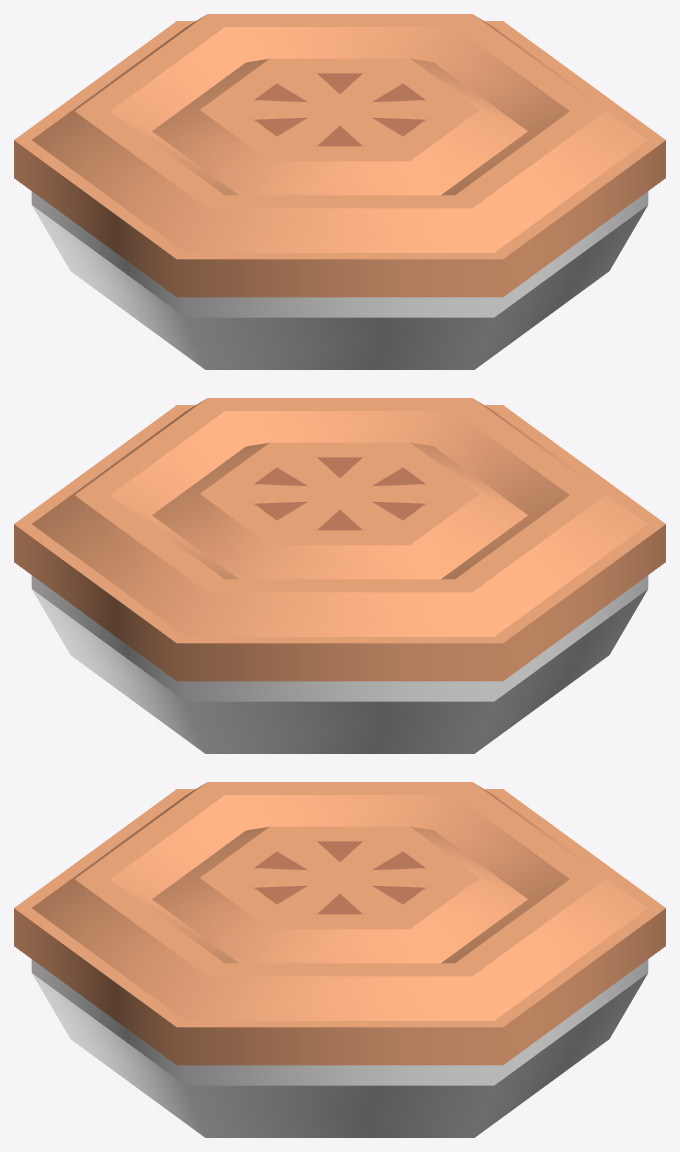
File: mincemeatPie.obj
The picture shows the model from 3 angles, top to bottom: view 1: azimuth 30°, elevation 25°; view 2: azimuth 150°, elevation 25°; view 3: azimuth 270°, elevation 25°; orthographic projection.
Visible parts, largest first — view 1: mincemeatPie; view 2: mincemeatPie; view 3: mincemeatPie.
Boxes of the visible parts, x1=… form: mincemeatPie: x1=14, y1=14, x2=665, y2=369; mincemeatPie: x1=14, y1=398, x2=665, y2=753; mincemeatPie: x1=14, y1=782, x2=665, y2=1137.
Size of the model in its own units: 0.5309 by 0.1673 by 0.6131.
